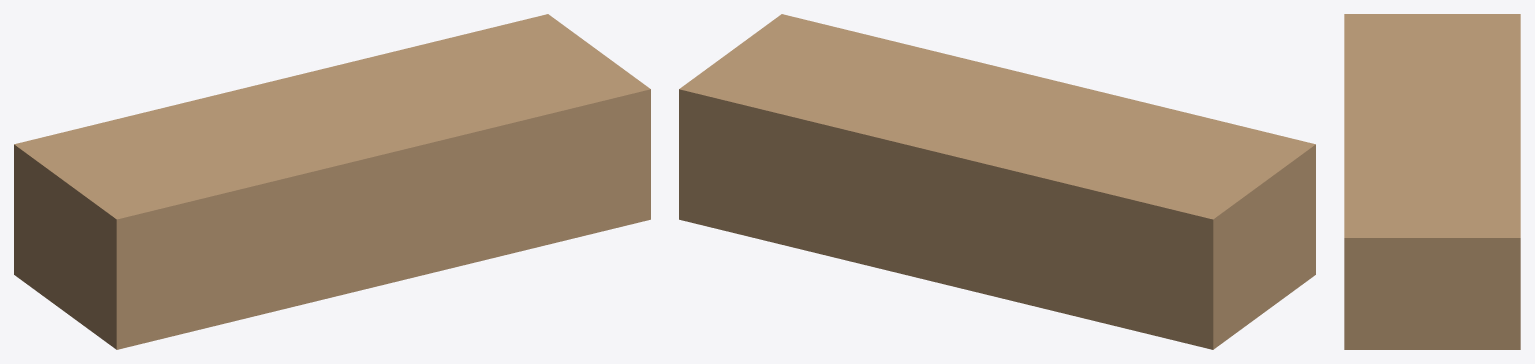
File: Prop_Water_AMF_Trough_V8.glb
The picture shows the model from 3 angles, left to right: view 1: azimuth 30°, elevation 25°; view 2: azimuth 150°, elevation 25°; view 3: azimuth 270°, elevation 25°; orthographic projection. The views are drawn at different scales.
Visible parts, largest first — view 1: Prop_Water_AMF_Trough_V8; view 2: Prop_Water_AMF_Trough_V8; view 3: Prop_Water_AMF_Trough_V8.
Part boxes in pixels (x1,y1,x2,y2): Prop_Water_AMF_Trough_V8: [14, 14, 650, 349]; Prop_Water_AMF_Trough_V8: [679, 14, 1315, 349]; Prop_Water_AMF_Trough_V8: [1344, 14, 1520, 349].
Bounding box in the file's own units: 1.5 × 0.35 × 0.5.
